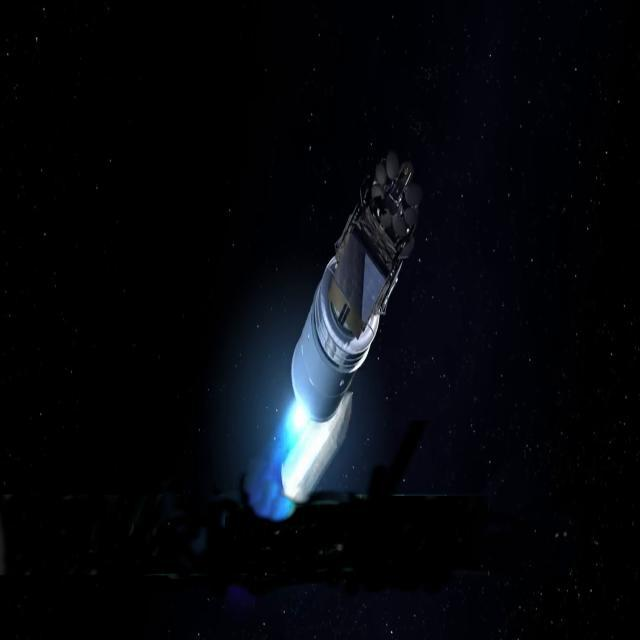sat: (255, 125, 421, 525)
